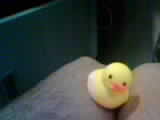duck: (88, 61, 127, 102)
